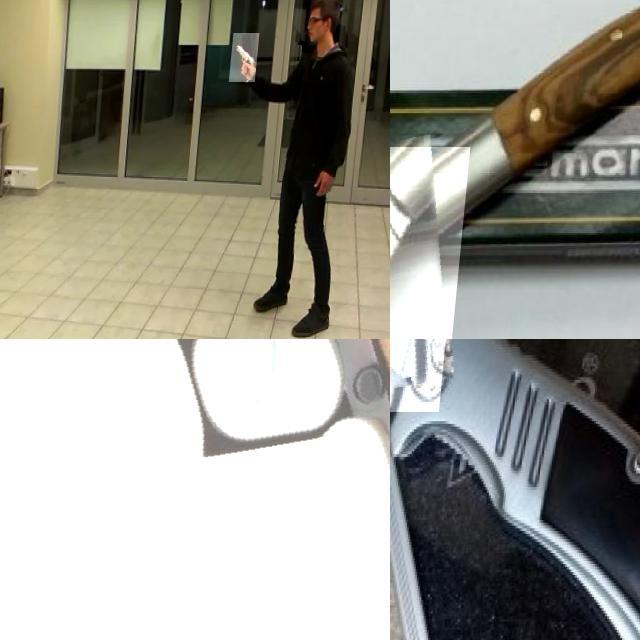-: (390, 147, 550, 339), (390, 339, 528, 480)
gun-knife-thesis - v11 Yolov5 augmented: (0, 339, 390, 640), (236, 33, 264, 82)
